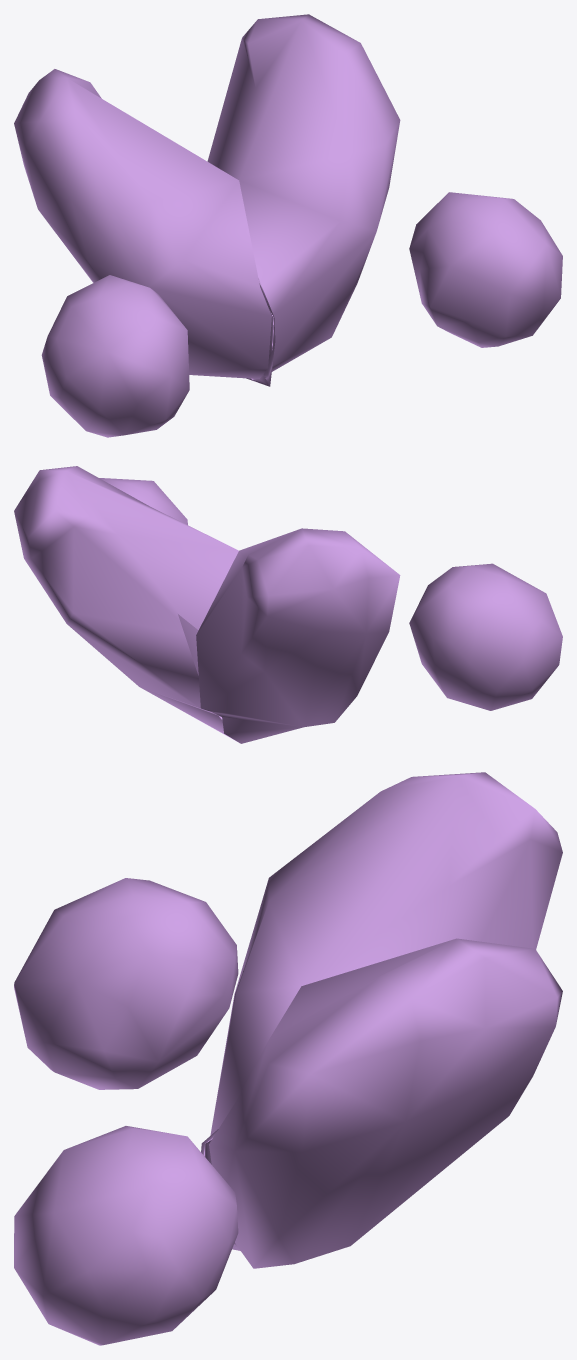
File: nervoso-habenula.glb
The picture shows the model from 3 angles, top to bottom: view 1: azimuth 30°, elevation 25°; view 2: azimuth 150°, elevation 25°; view 3: azimuth 270°, elevation 25°; orthographic projection. The views are drawn at different scales.
Visible parts, largest first — view 1: Habenula; view 2: Habenula; view 3: Habenula.
Part boxes in pixels (box(x1,y1,x2,y2)): Habenula: box(14, 14, 562, 437); Habenula: box(14, 466, 562, 743); Habenula: box(14, 772, 562, 1345).
Bounding box in the file's own units: 0.00734 × 0.00402 × 0.00495.
